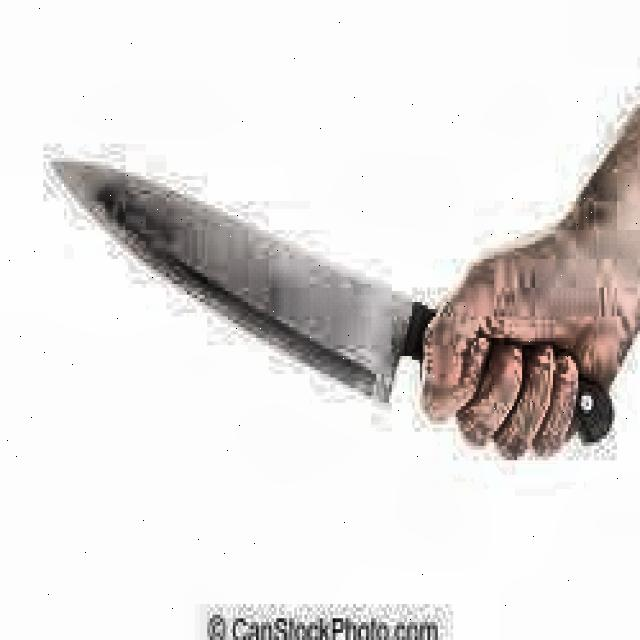knife: (53, 160, 612, 445)
